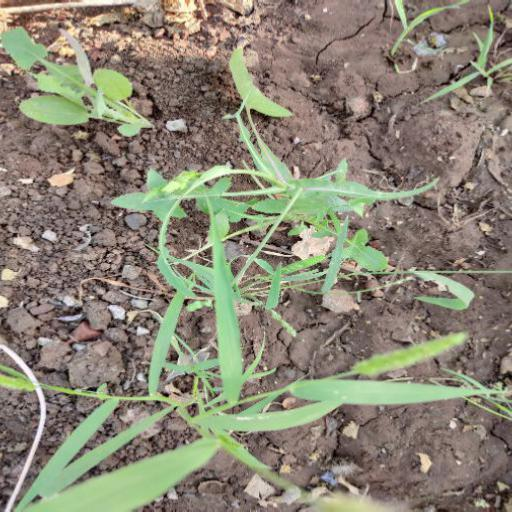weed: (30, 24, 454, 487)
